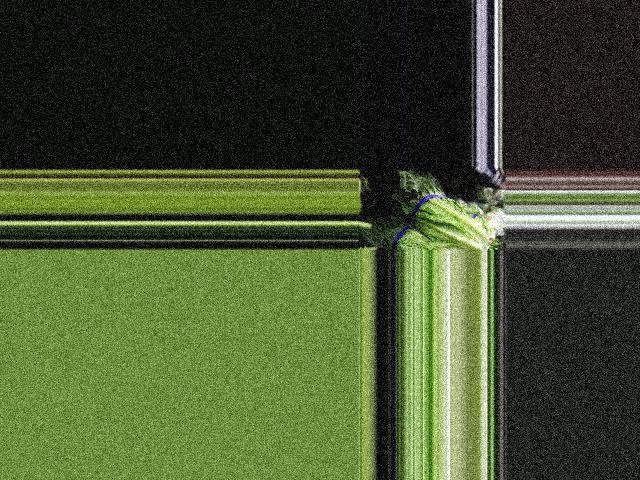lettuce: (392, 175, 484, 250)
